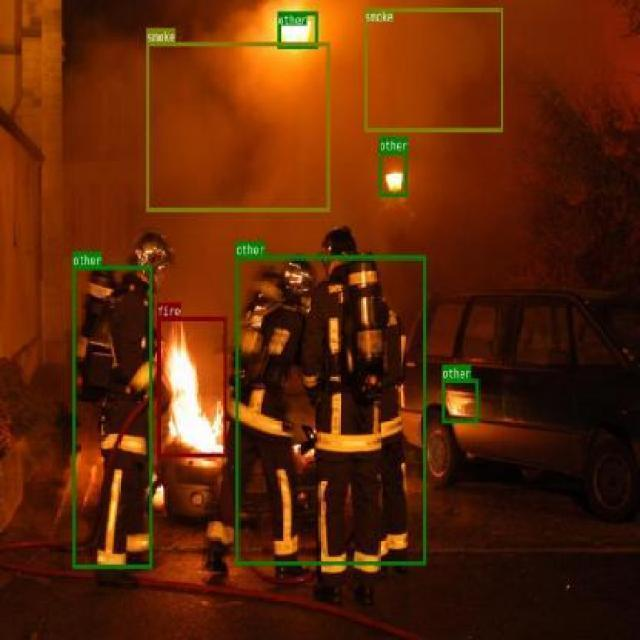Fire: (168, 318, 236, 458)
Smoke: (59, 0, 628, 323)
